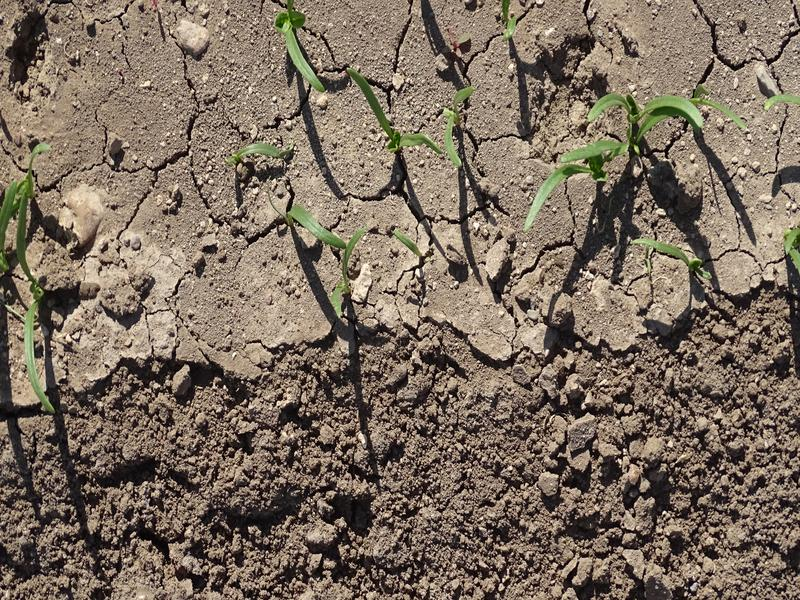Espinaca: (538, 86, 728, 232), (7, 144, 61, 415), (283, 206, 362, 315), (346, 71, 441, 154), (267, 12, 331, 92), (445, 87, 466, 166), (232, 138, 290, 161)
